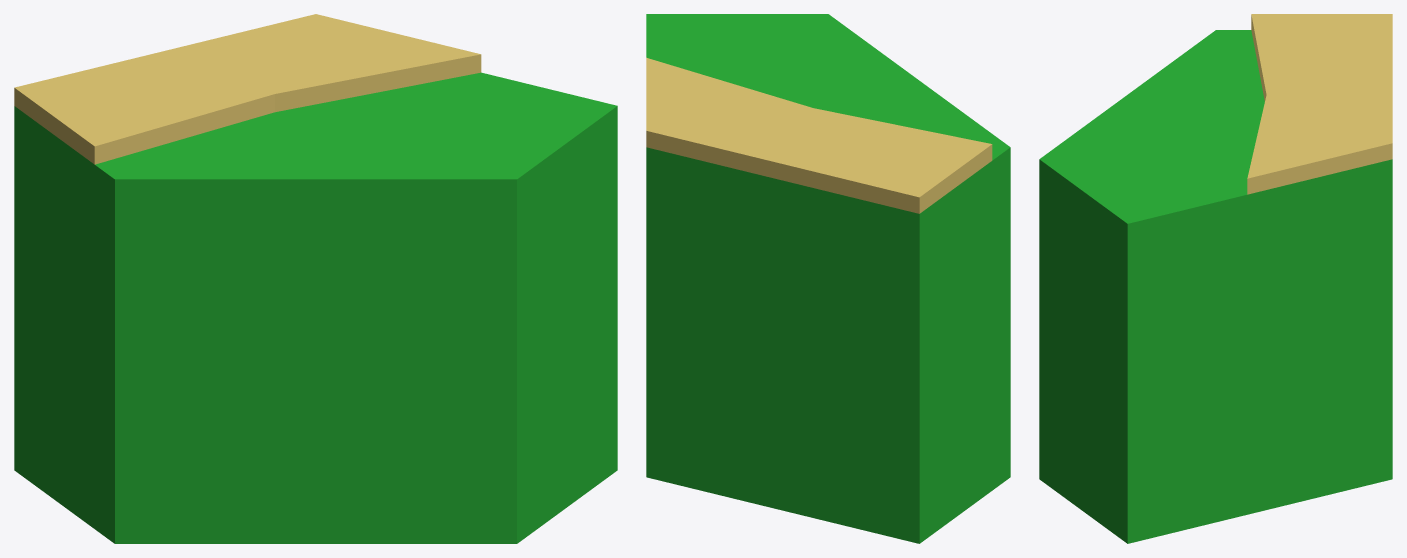
Rendered from module-corner_land_path_straight_001.glb.
3 renders of one model, left to right at view 1: azimuth 30°, elevation 25°; view 2: azimuth 150°, elevation 25°; view 3: azimuth 270°, elevation 25°, orthographic. The views are drawn at different scales.
Parts seen in each view (by area): view 1: module-corner_land_path_straight_001; view 2: module-corner_land_path_straight_001; view 3: module-corner_land_path_straight_001.
Part boxes in pixels (<box>): module-corner_land_path_straight_001: <box>14,14,617,543</box>; module-corner_land_path_straight_001: <box>646,14,1010,543</box>; module-corner_land_path_straight_001: <box>1039,14,1392,543</box>.
Size of the model in its own units: 0.6495 by 0.525 by 0.5.
